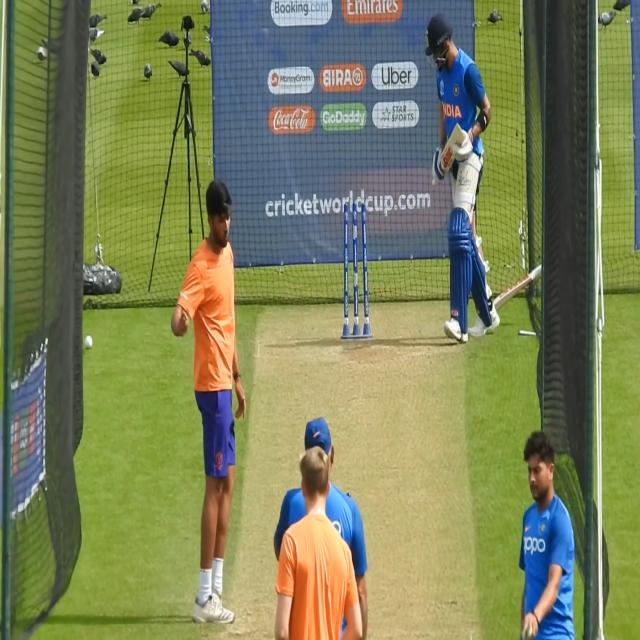ball: (83, 331, 94, 353)
stump: (342, 201, 370, 343)
